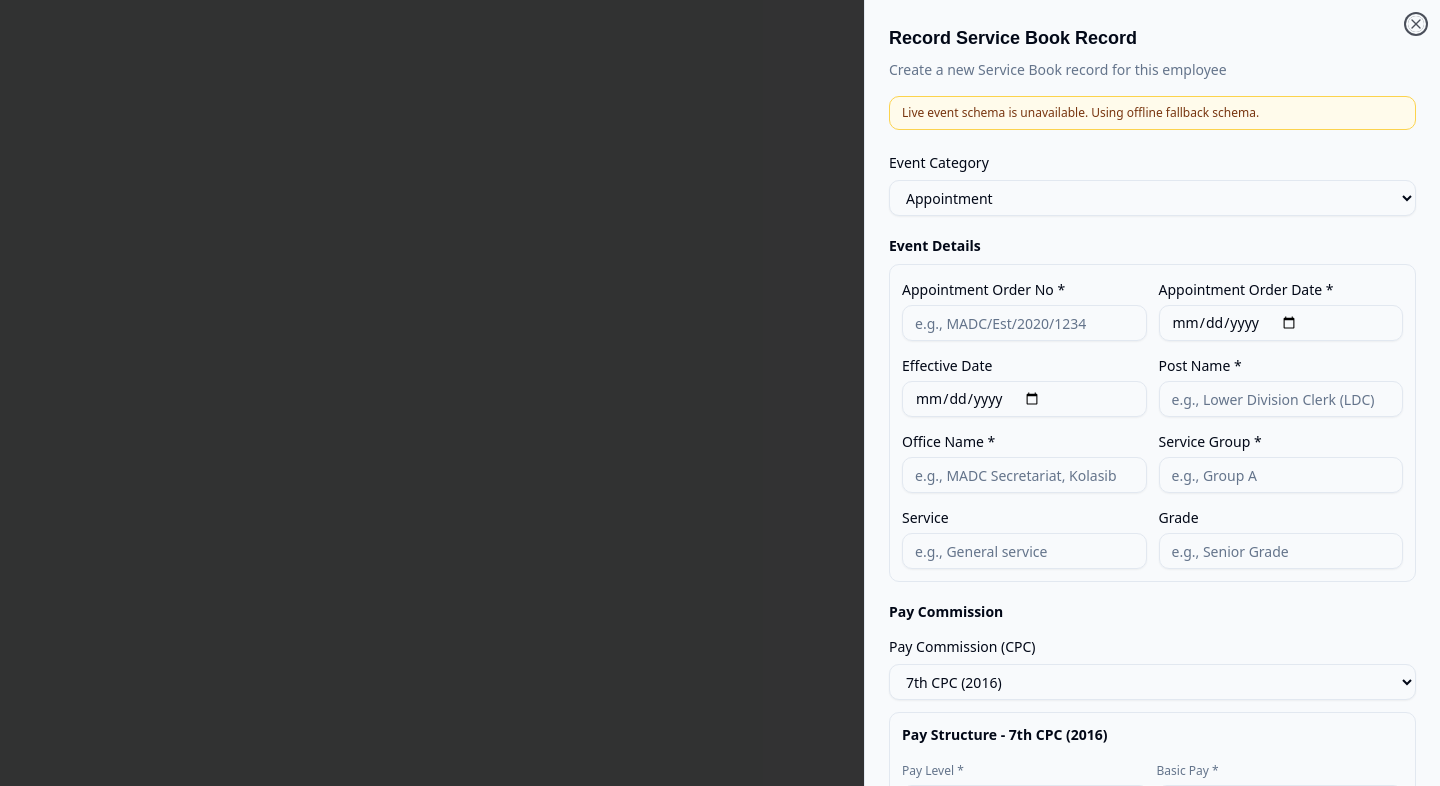
Test: RecordServiceBookRecordDialog fallback mode › shows target grade for promotion in fallback mode
Select "Promotion" in the dropdown labelled "Event Category": [1152, 198] box [889,180,1416,216]
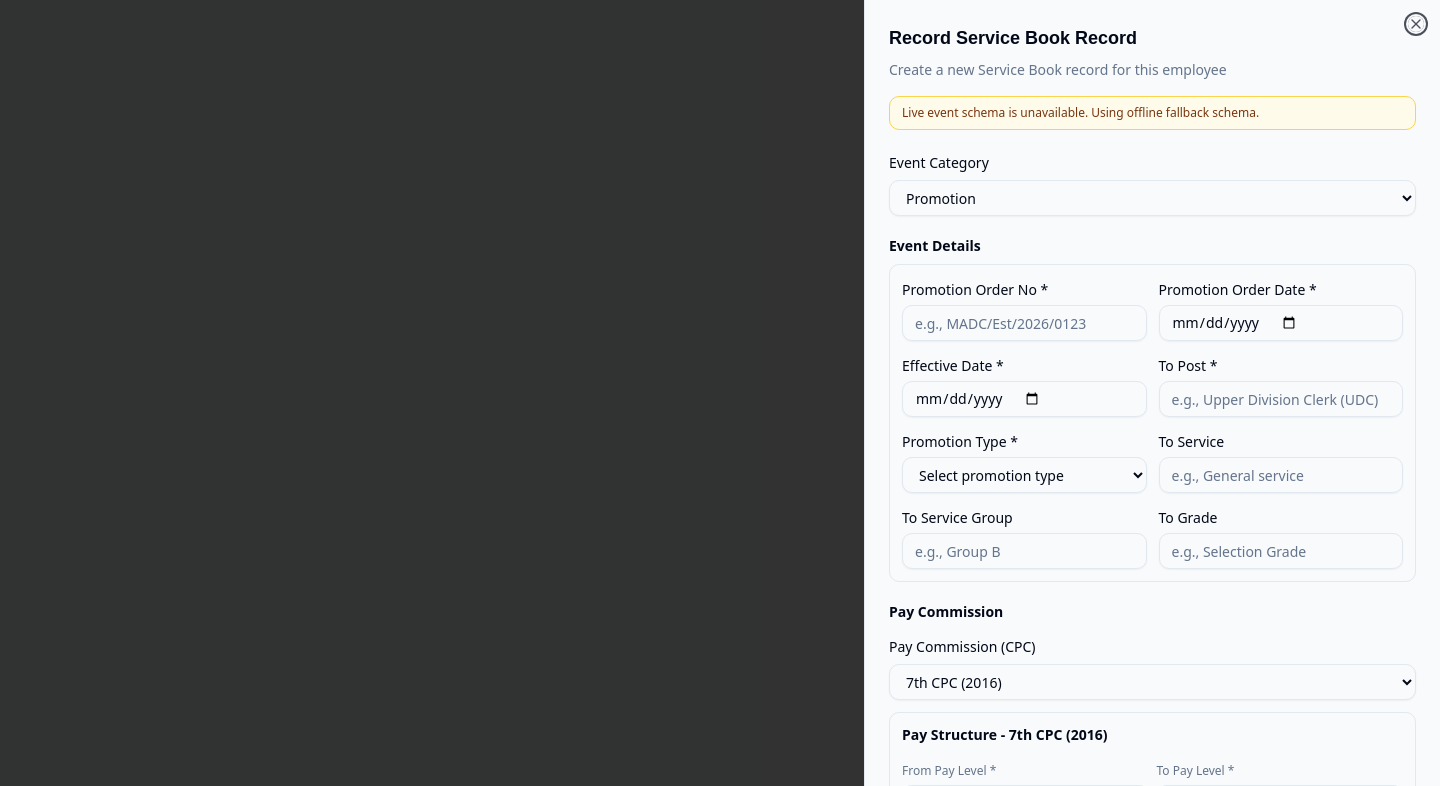
Result: the dropdown labelled "Promotion Type *" is shown at [902,457,1146,493]
Result: the field with placeholder "e.g., General service" is shown at [1158,457,1403,493]
Result: the field with placeholder "e.g., Group B" is shown at [902,533,1146,569]
